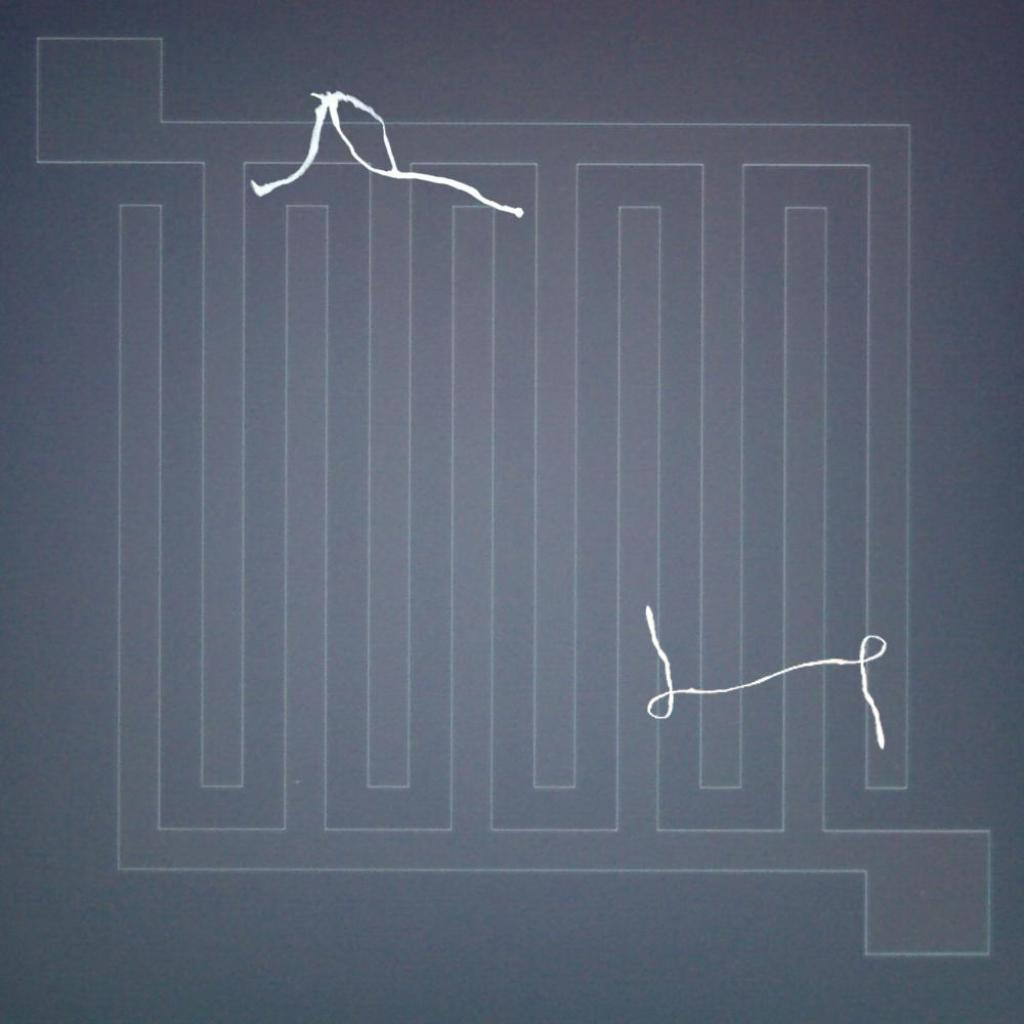line: (630, 590, 901, 755), (245, 76, 531, 231)
